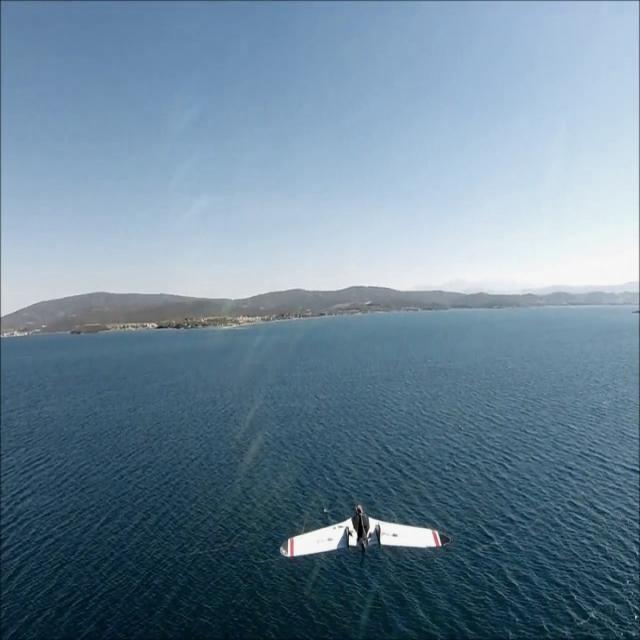iha: (275, 511, 453, 559)
